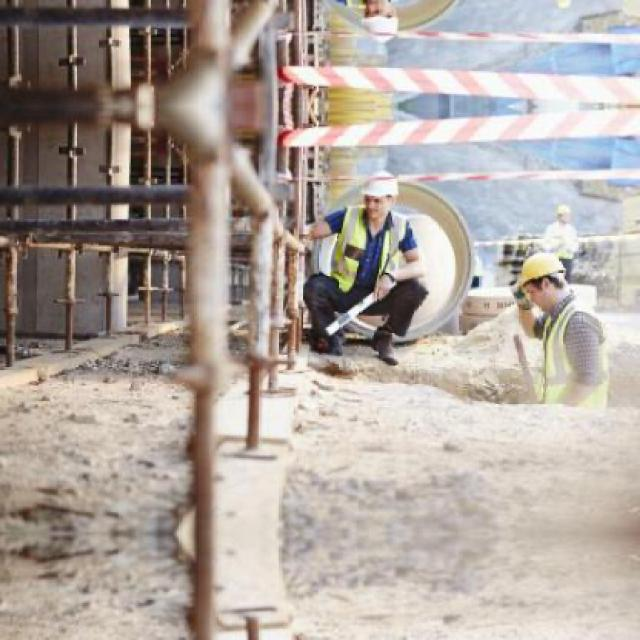helmet: (514, 250, 572, 314), (352, 171, 406, 225), (352, 0, 408, 43)
